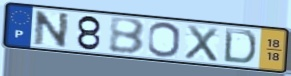8: (75, 15, 101, 51)
B: (108, 17, 147, 56)
D: (222, 27, 258, 66)
N: (33, 9, 71, 49)
O: (146, 21, 182, 59)
X: (182, 23, 220, 63)
